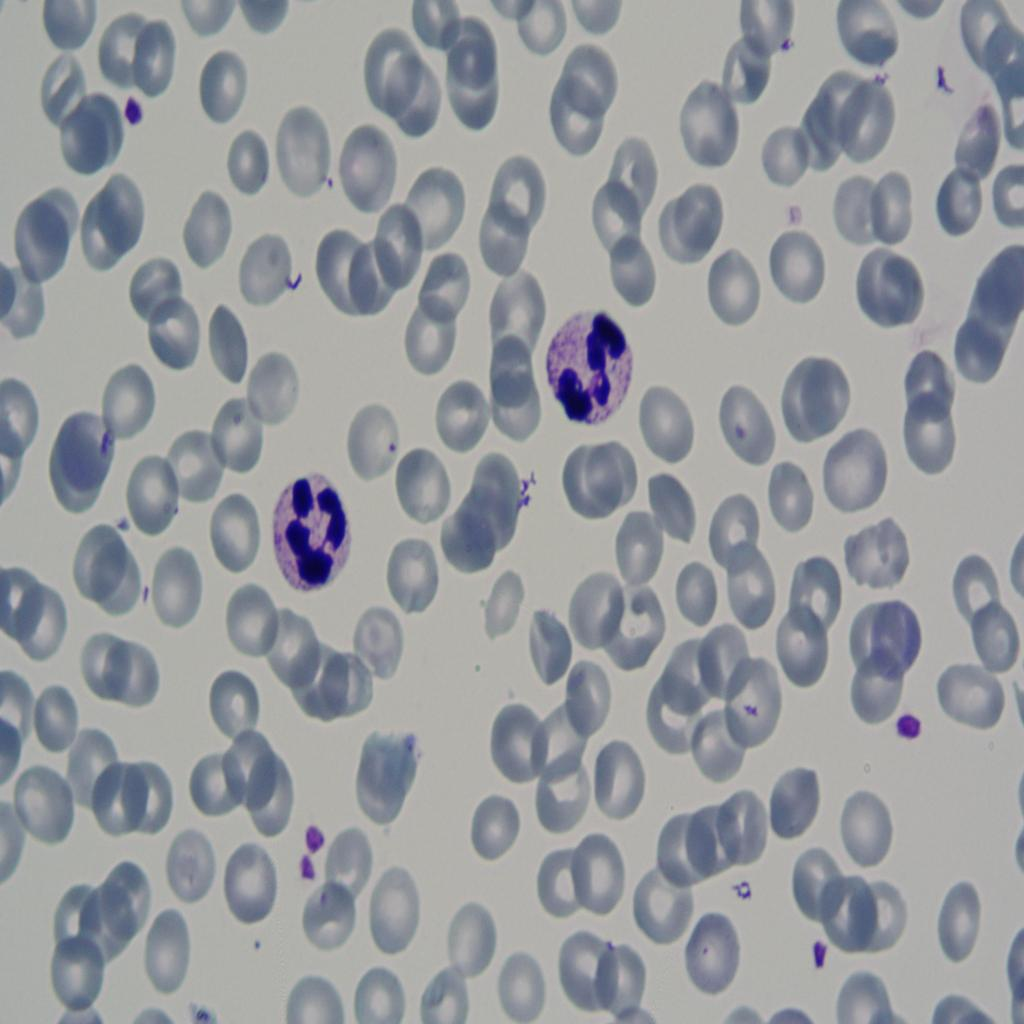Neutrofil: (538, 297, 638, 428), (275, 470, 364, 616)
Platelet: (884, 705, 920, 758), (117, 78, 146, 130), (305, 809, 332, 864), (296, 854, 324, 891), (808, 937, 830, 979)
